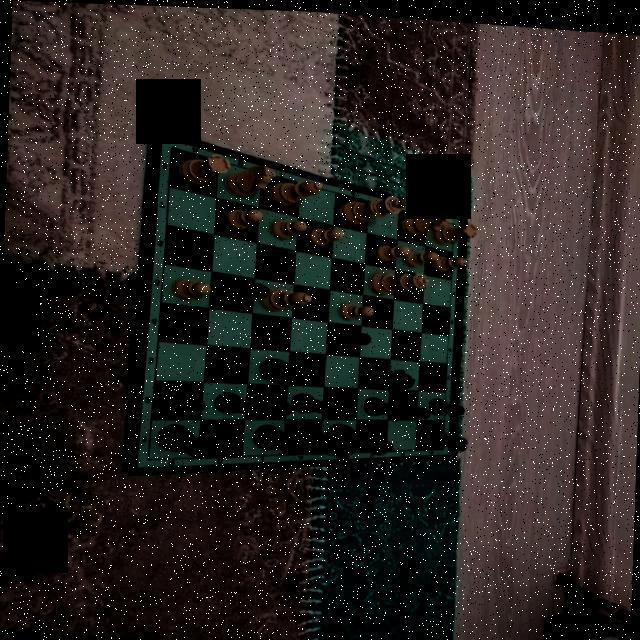chess-table-corners: (138, 452, 154, 466), (164, 140, 176, 154), (447, 216, 457, 226), (436, 442, 446, 450)
